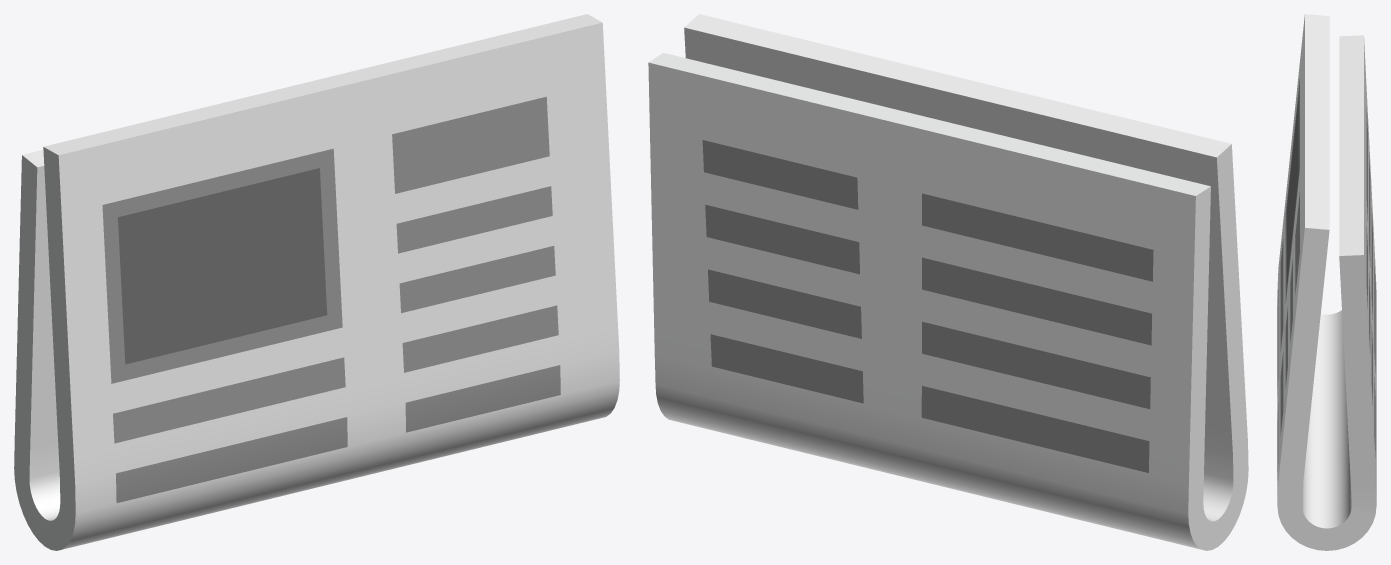
File: newspaper.gltf
The picture shows the model from 3 angles, left to right: view 1: azimuth 30°, elevation 25°; view 2: azimuth 150°, elevation 25°; view 3: azimuth 270°, elevation 25°; orthographic projection. The views are drawn at different scales.
Parts seen in each view (by area): view 1: Cylinder.501; view 2: Cylinder.501; view 3: Cylinder.501.
Part boxes in pixels (<box>): Cylinder.501: <box>14,14,619,550</box>; Cylinder.501: <box>648,14,1248,550</box>; Cylinder.501: <box>1277,14,1376,550</box>.
Size of the model in its own units: 2.31 by 1.58 by 0.44.
1 material, 1 textured.
